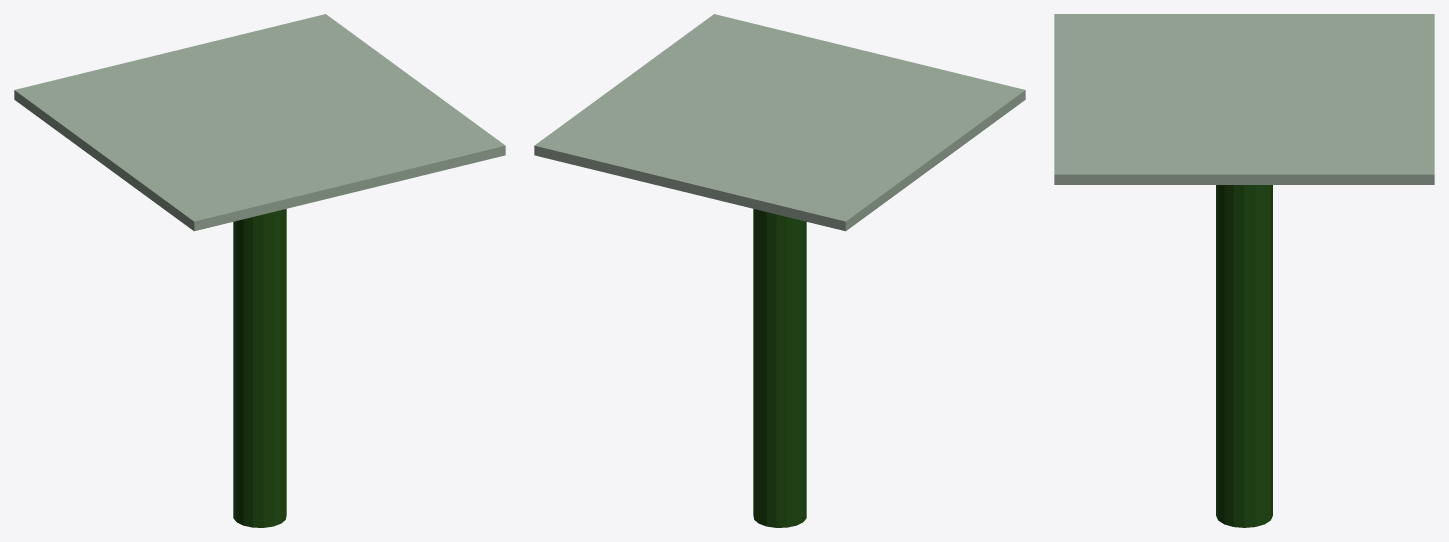
Rendered from sea_platform_1.glb.
3 renders of one model, left to right at view 1: azimuth 30°, elevation 25°; view 2: azimuth 150°, elevation 25°; view 3: azimuth 270°, elevation 25°, orthographic. The views are drawn at different scales.
Parts seen in each view (by area): view 1: base, stand; view 2: base, stand; view 3: base, stand.
Part boxes in pixels (bbox=[...]): base: bbox=[14, 14, 505, 231]; stand: bbox=[233, 209, 286, 527]; base: bbox=[534, 14, 1025, 231]; stand: bbox=[753, 209, 806, 527]; base: bbox=[1054, 14, 1434, 184]; stand: bbox=[1216, 185, 1272, 527].
Size of the model in its own units: 1.67 by 2.05 by 1.67.
